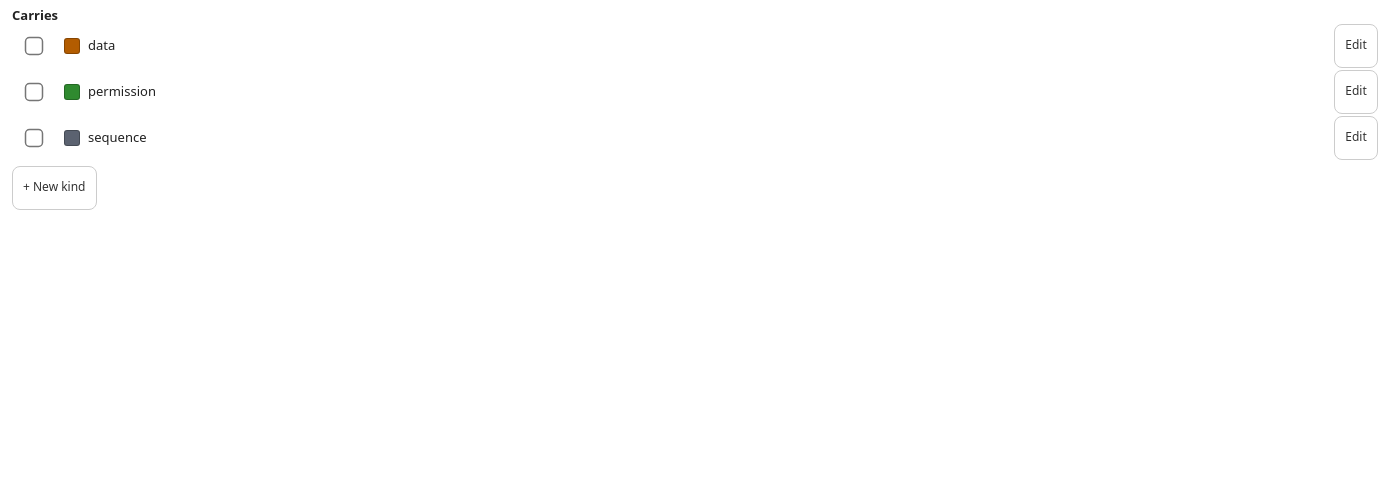
Test: the field › refuses on Enter exactly as it refuses on Save
The width and height of the screenshot is (1390, 477).
Click the button with test id "kind-add" at (54, 188), box top-left (12, 166), bottom-right (96, 210)
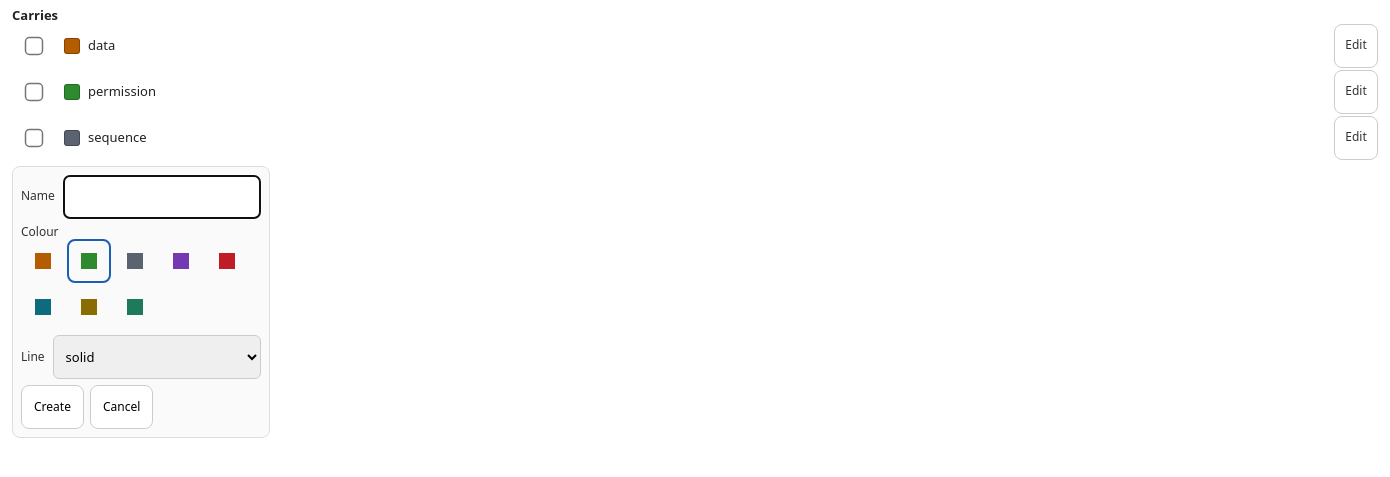
Type "data" into the field with test id "kind-form-label" at (162, 197), box top-left (63, 175), bottom-right (261, 219)
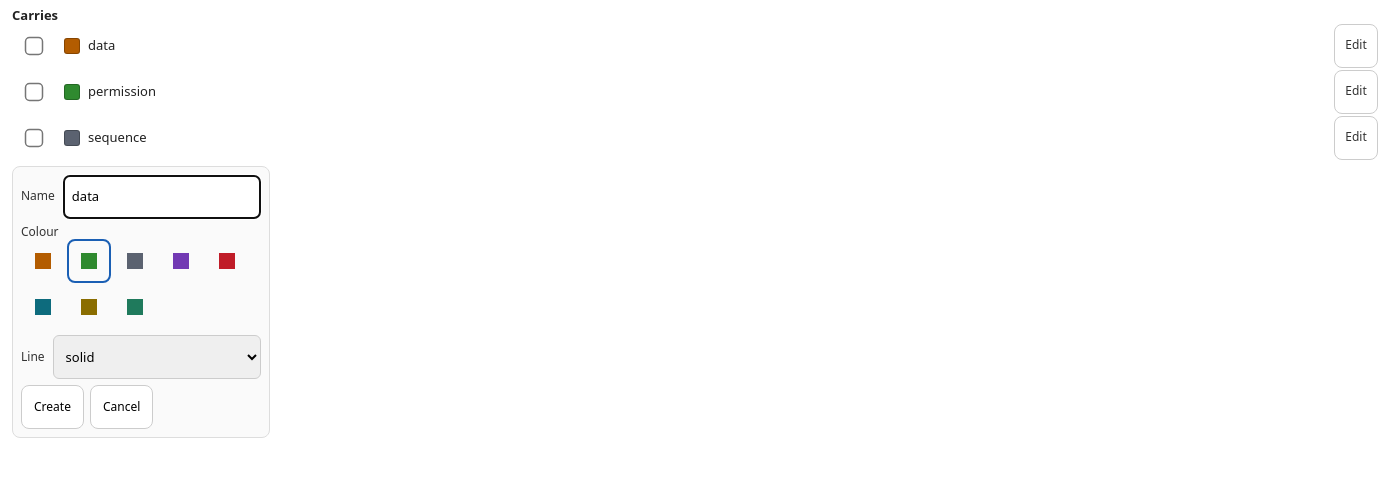
Press Enter in the field with test id "kind-form-label", box top-left (63, 175), bottom-right (261, 219)
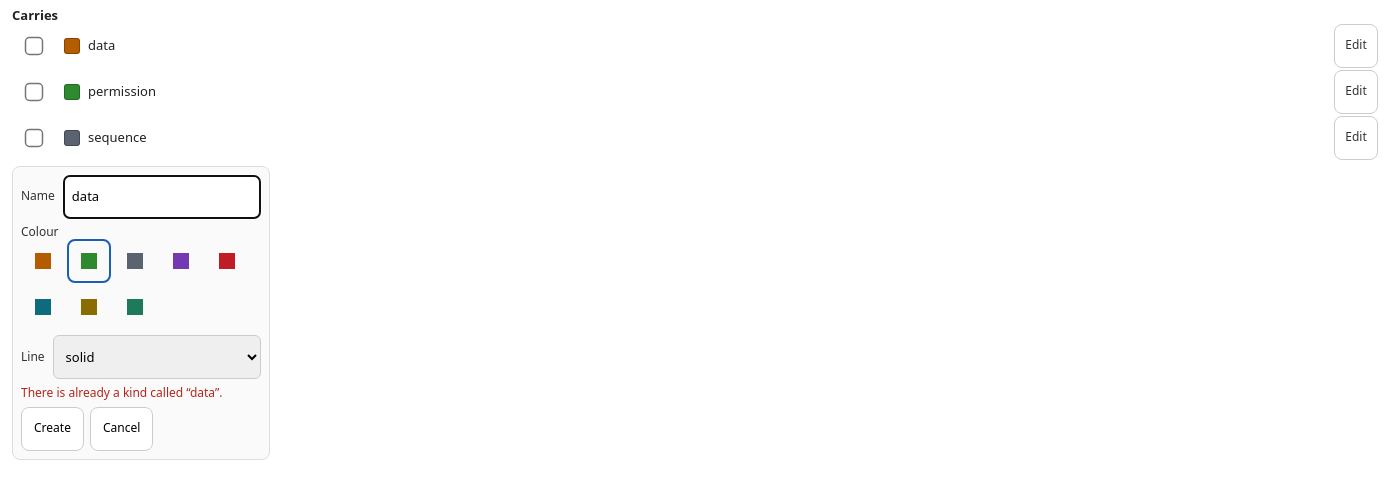
Expected: the message "There is already a kind called “data”." is shown, top-left (21, 384), bottom-right (222, 401)
